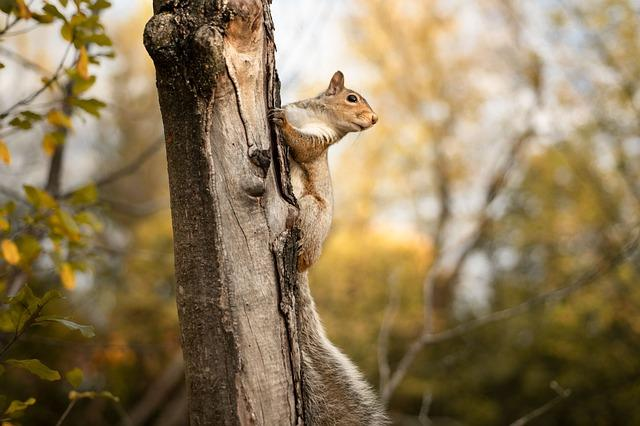Non_Gorille: (233, 41, 441, 329)
